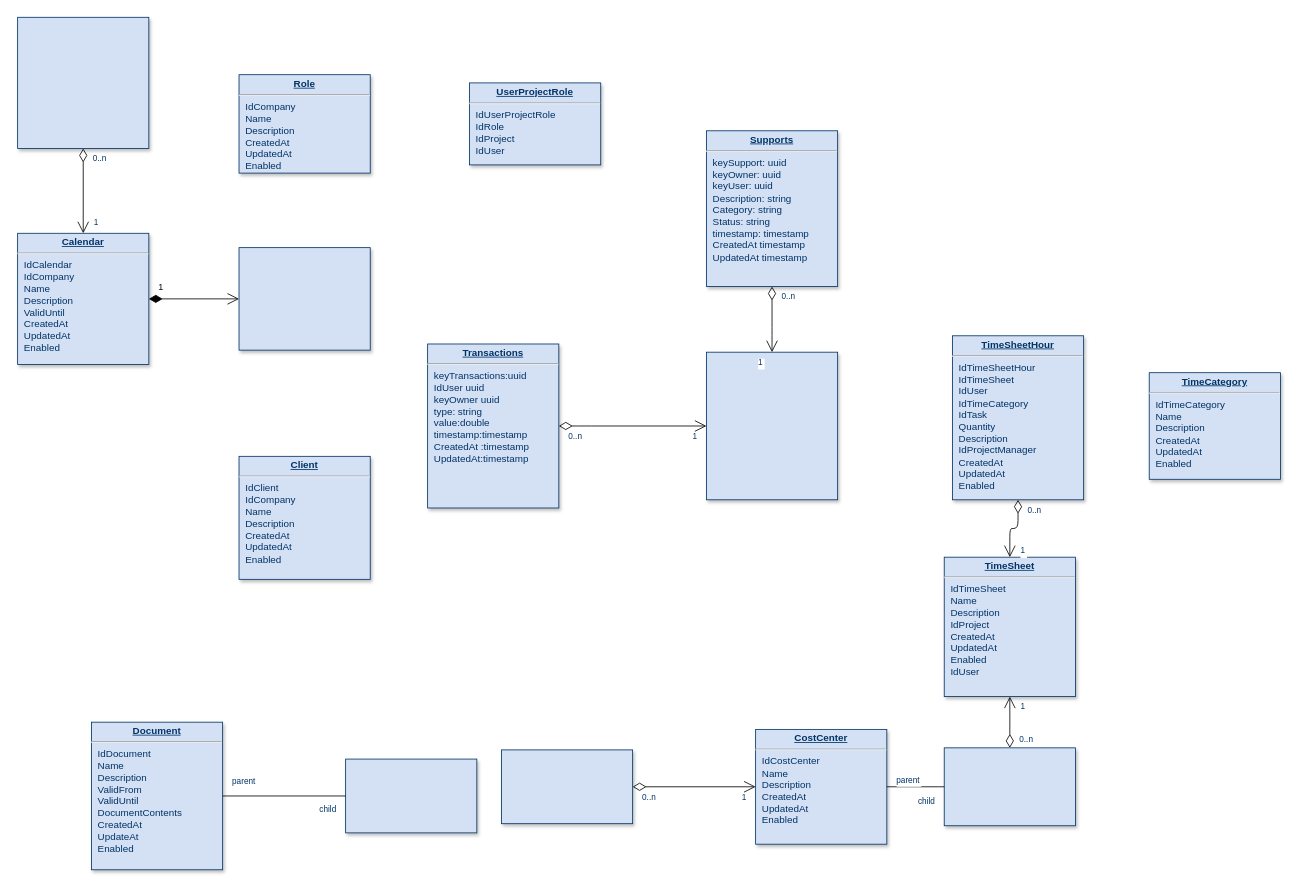
This 1300x891 diagram has some shape labels left out. The centre of each missing label's shape, as x and y in pixels:
"Company Name Description CreatedAt UpdatedAt Enabled" belongs at (305,300).
"Holiday IdHoliday IdCalendar Name Description Date CreatedAt UpdatedAt Enabled" belongs at (84,83).
"ProjectCostCenter IdProjectCostCenter IdProject IdCostCenter" belongs at (567,787).
"ProjectDocument IdProjectDocument IdProject IdDocument" belongs at (412,797).
"TimeSheetCostCenter IdTimeSheetCostCenter IdTimeSheet IdCostCenter" belongs at (1010,787).
"Users keyUsers KeyCard Name Email Password CreatedAt UpdatedAt" belongs at (772,427).
